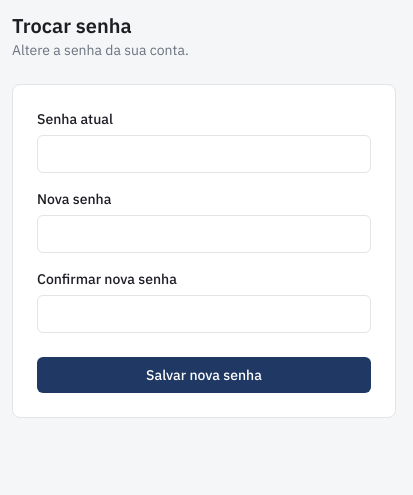
Scenario: TrocarSenhaPage › bloqueia o envio quando a confirmação não bate com a nova senha
Type "senha-atual-123" into the password field labelled "Senha atual". click: [204, 154]
box: [37,135,371,173]
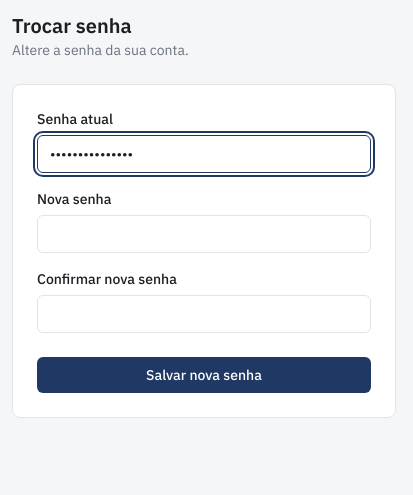
Type "senha-nova-123" into the password field labelled "Nova senha". click: [204, 234]
box: [37,215,371,253]
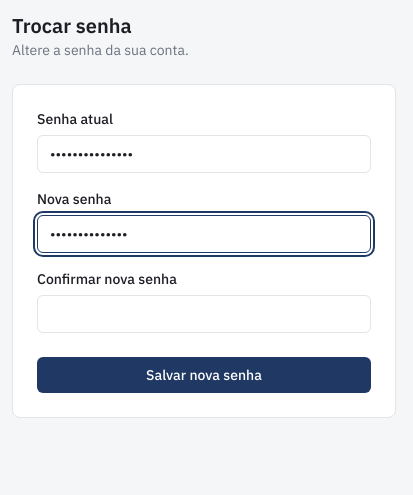
Type "senha-diferente-123" into the password field labelled "Confirmar nova senha". click: [204, 314]
box: [37,295,371,333]
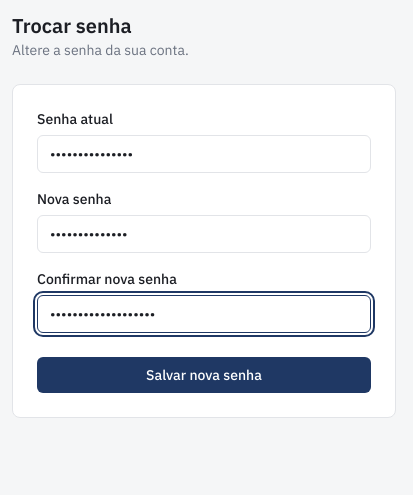
Click the button "Salvar nova senha". click: [204, 375]
box: [37,357,371,393]
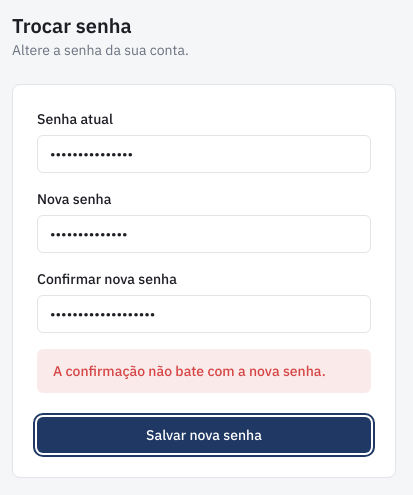
Check: the message reads "A confirmação não bate com a nova senha.", box [53,362,326,380]
